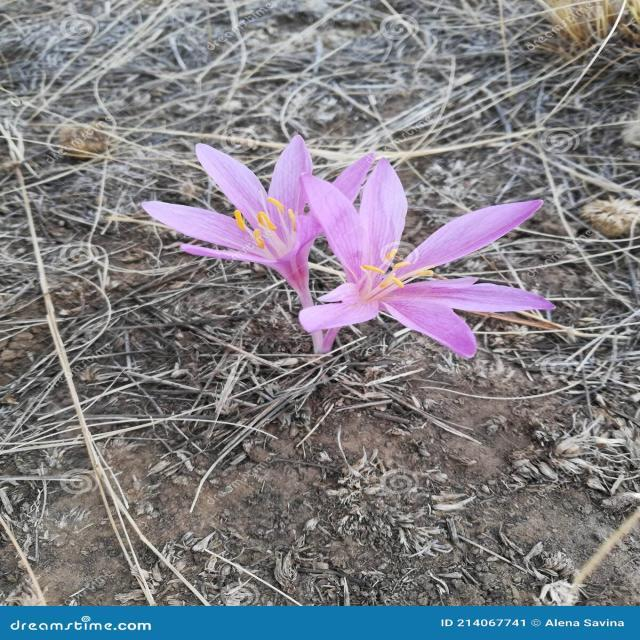Flower: (141, 136, 587, 368)
